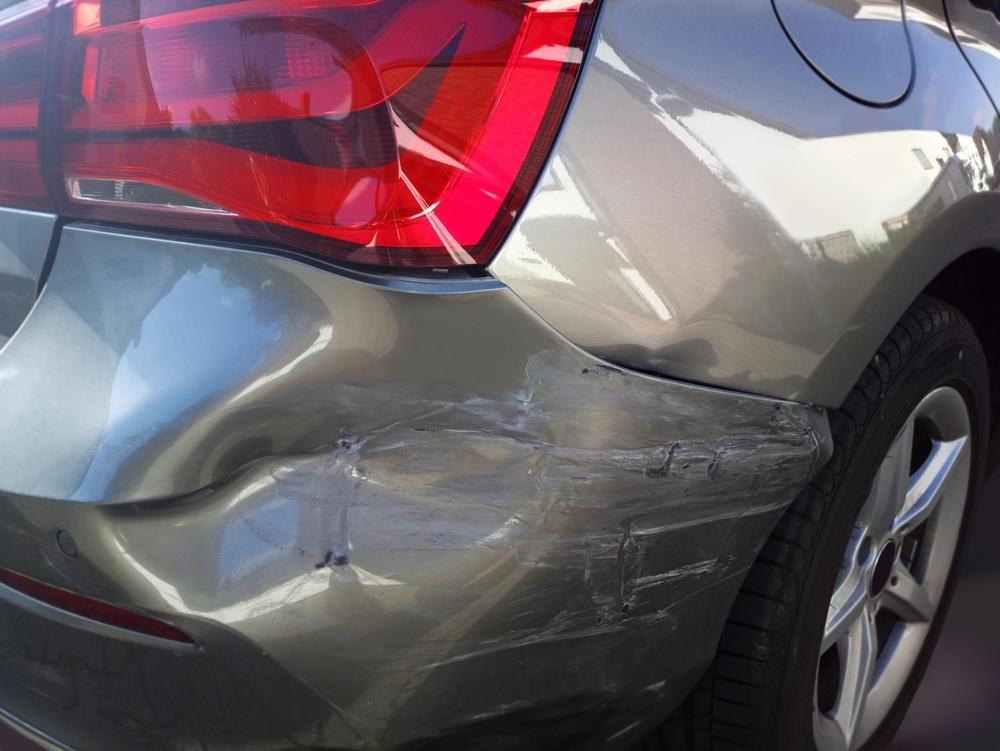dent: (110, 367, 583, 614)
scratch: (381, 345, 823, 744)
